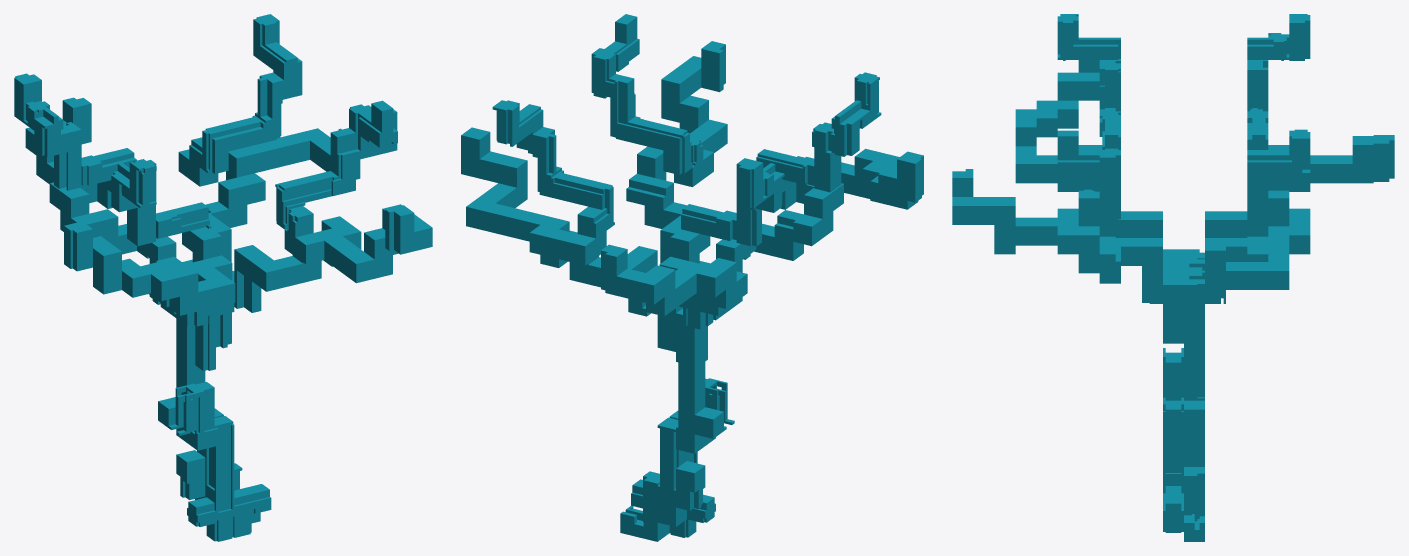
Rendered from Iceflower-12.obj.
The picture shows the model from 3 angles, left to right: view 1: azimuth 30°, elevation 25°; view 2: azimuth 150°, elevation 25°; view 3: azimuth 270°, elevation 25°; orthographic projection.
Size of the model in its own units: 16.8 by 18.4 by 16.8.
1 material, 1 textured.
